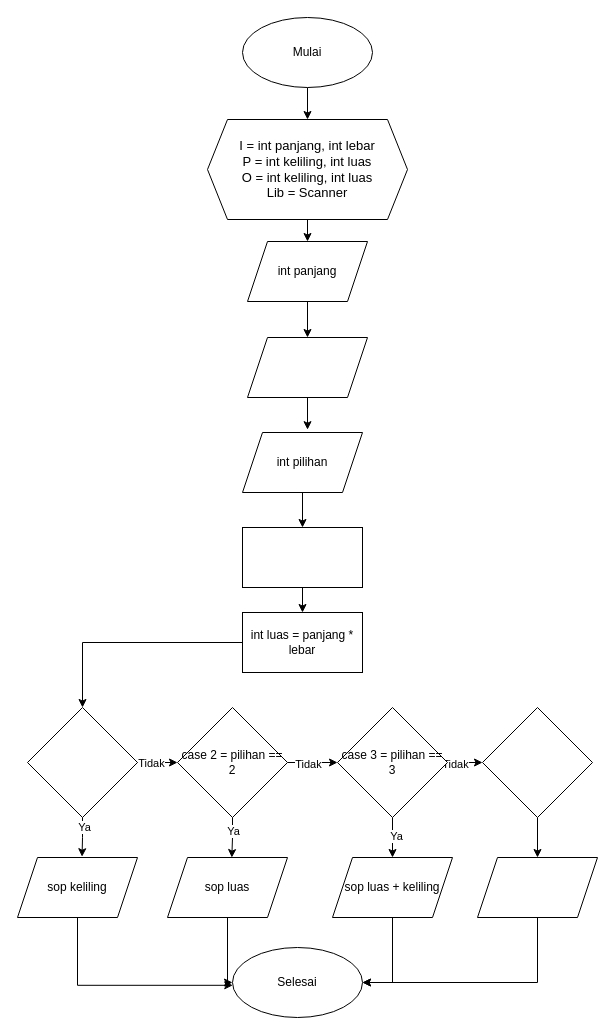
The diagram is 615 pixels wide and 1035 high, and some of its shapes have lost their labels. Here are the shapes that lost their labels. From the top down, the centre of each, then its label:
(x=307, y=367): int lebar
(x=302, y=557): int keliling = 2 * (panjang + lebar)
(x=82, y=762): case 1 = pilihan == 1
(x=537, y=762): default
(x=537, y=887): sop "Pilihan Tidak Valid"
